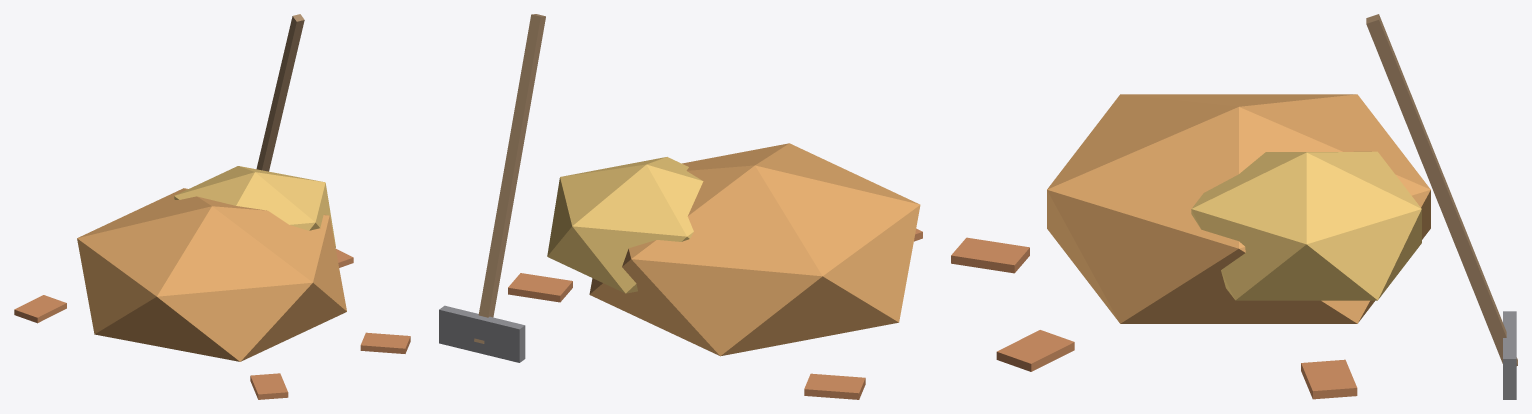
Rendered from leafpile.glb.
3 renders of one model, left to right at view 1: azimuth 30°, elevation 25°; view 2: azimuth 150°, elevation 25°; view 3: azimuth 270°, elevation 25°, orthographic. The views are drawn at different scales.
Parts seen in each view (by area): view 1: leafpile; view 2: leafpile; view 3: leafpile.
Boxes of the visible parts, x1=… form: leafpile: x1=14, y1=14, x2=410, y2=399; leafpile: x1=439, y1=14, x2=922, y2=399; leafpile: x1=951, y1=14, x2=1517, y2=399.
Size of the model in its own units: 2.34 by 1.91 by 2.51.
